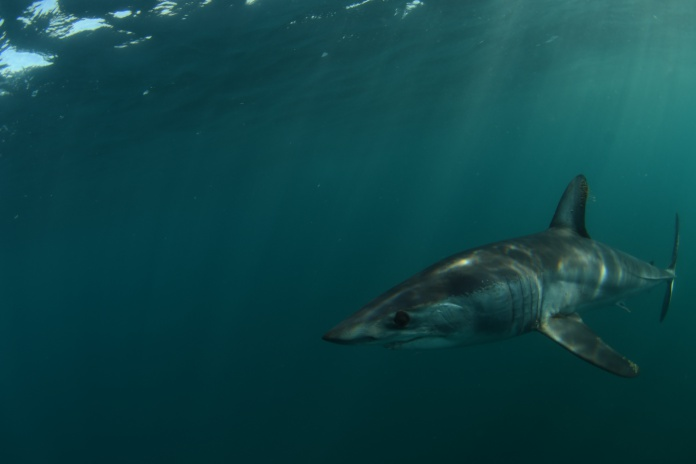Mako: (302, 164, 688, 380)
